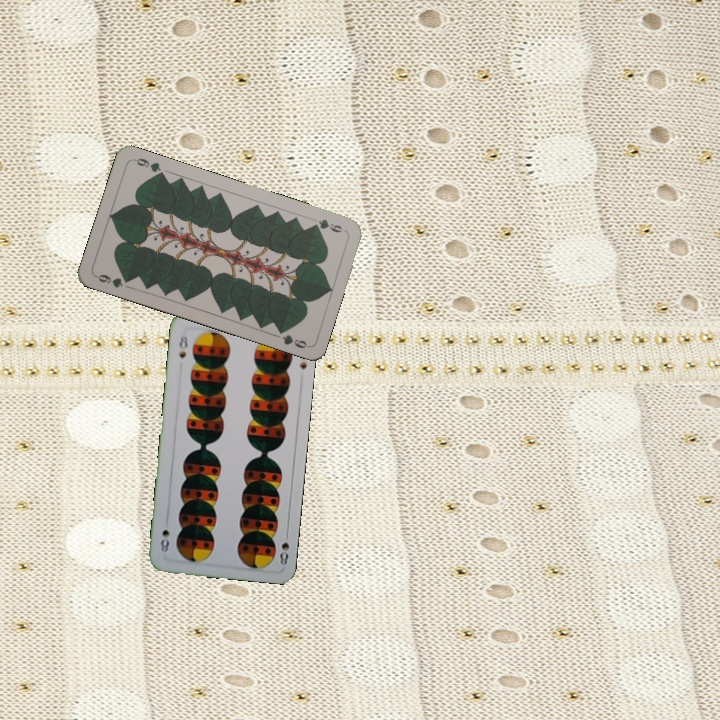G9: (92, 270, 133, 290), (307, 215, 345, 235)
S8: (276, 527, 292, 568), (175, 331, 190, 361)
